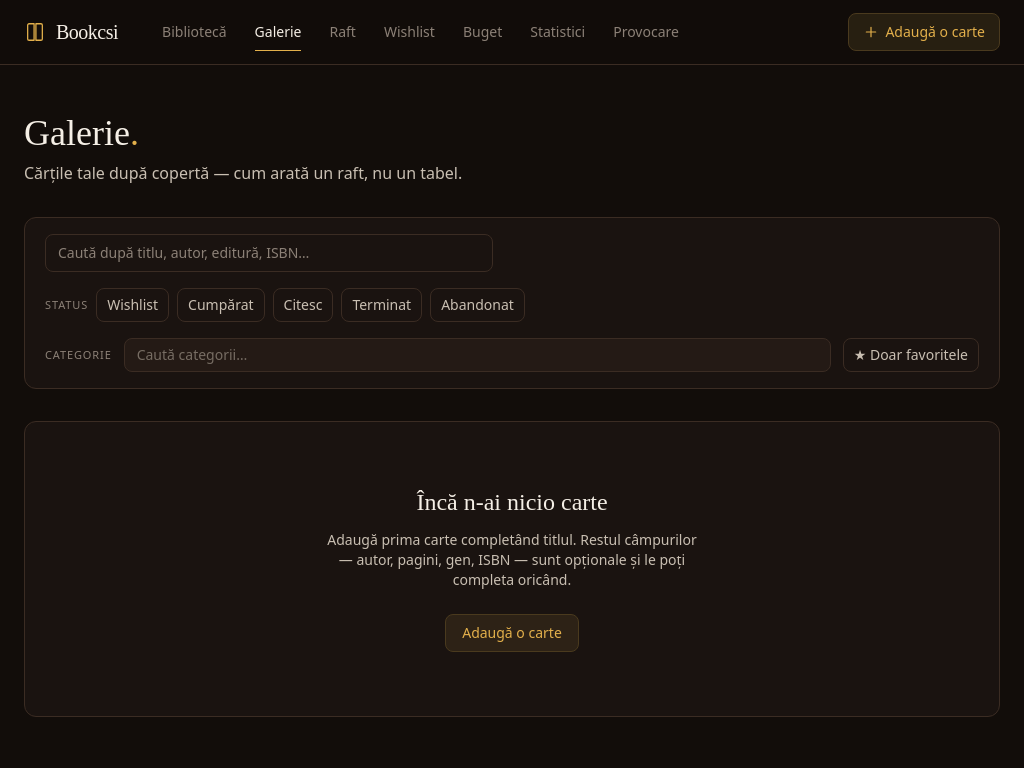
GalleryPage — the two empty states › puts the filters back
Check: the text "Încă n-ai nicio carte" is shown, box x1=416 y1=489 x2=608 y2=515
Click the button "Citesc".
click(303, 305)  # box x1=273 y1=288 x2=333 y2=322
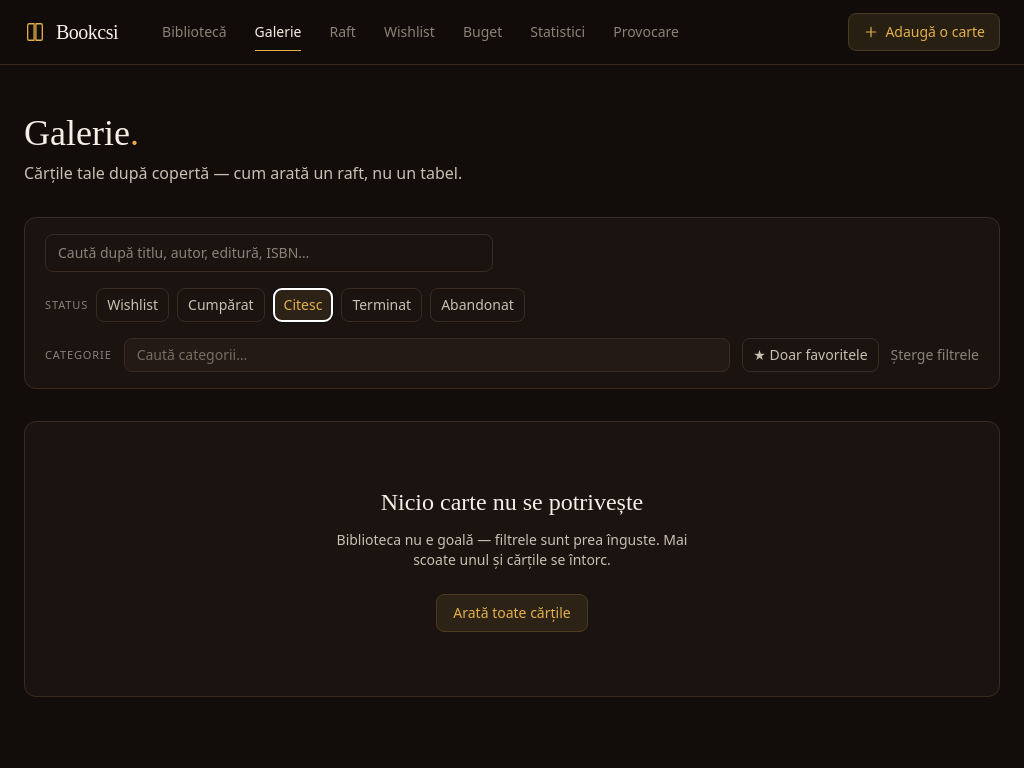
Check: the text "Nicio carte nu se potrivește" is shown, box x1=381 y1=489 x2=643 y2=515
Click the button "Arată toate cărțile".
click(512, 613)  # box x1=436 y1=594 x2=588 y2=632
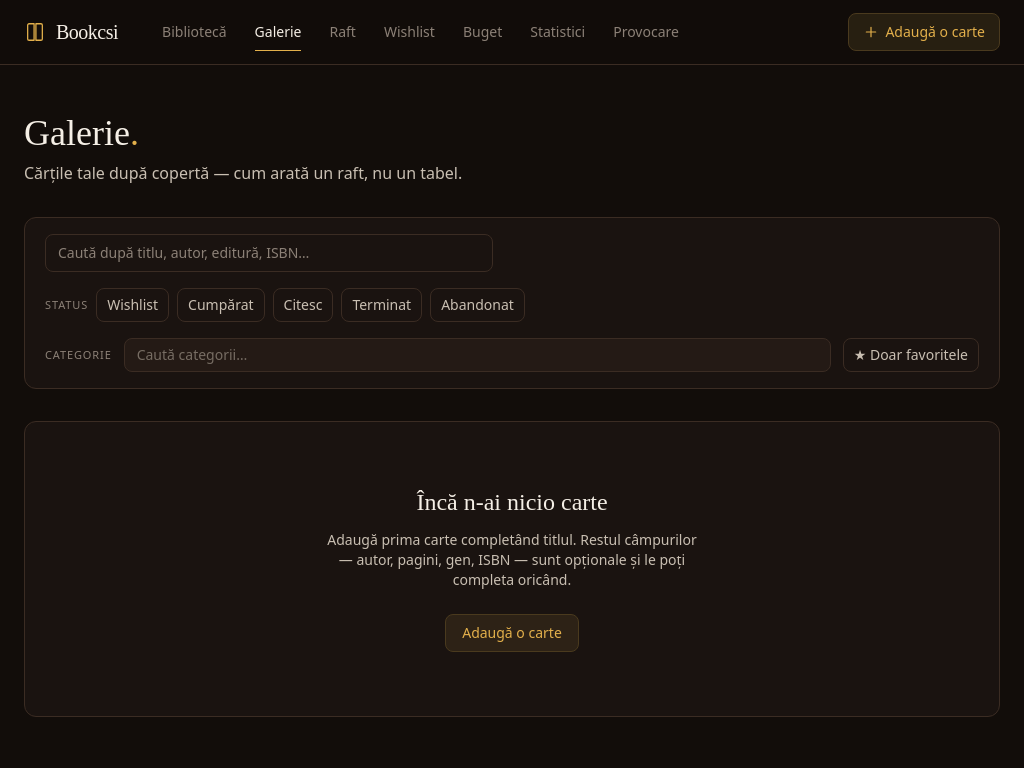
Check: the text "Încă n-ai nicio carte" is shown, box x1=416 y1=489 x2=608 y2=515
